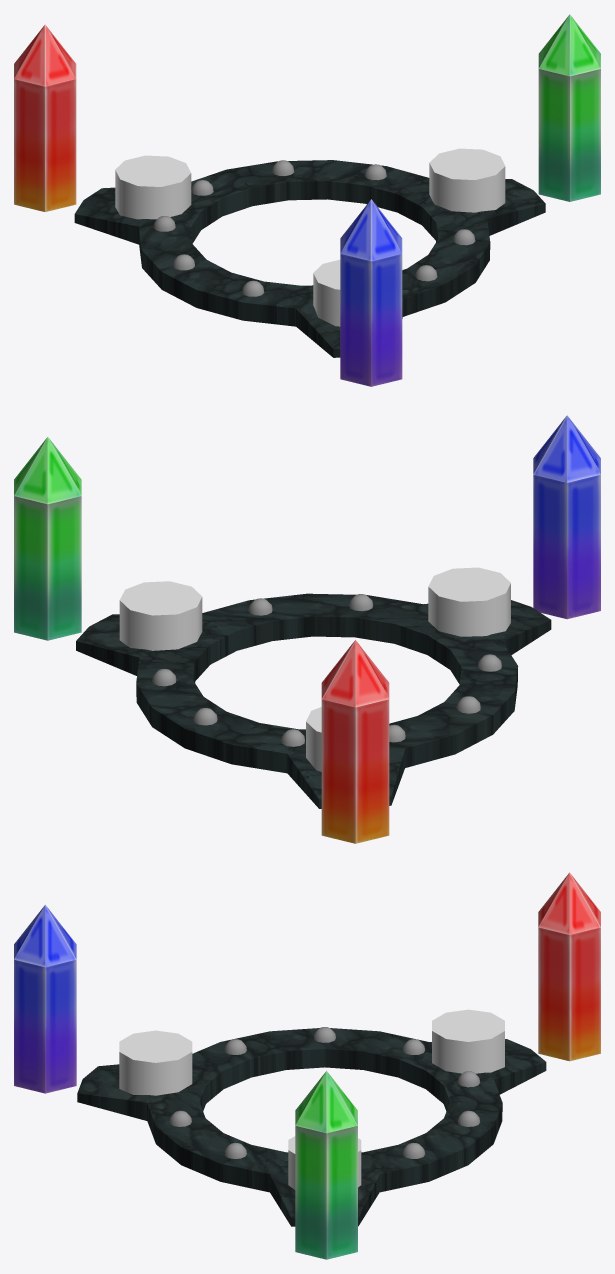
File: RGB portal.FBX
3 views of the same model, one above another, from view 1: azimuth 30°, elevation 25°; view 2: azimuth 150°, elevation 25°; view 3: azimuth 270°, elevation 25° (orthographic). The views are drawn at different scales.
Parts seen in each view (by area): view 1: Cylinder001, Cylinder004, Cylinder003, Object001, Cylinder002; view 2: Cylinder001, Cylinder004, Cylinder002, Object001, Cylinder003; view 3: Cylinder001, Cylinder002, Cylinder003, Object001, Cylinder004.
Part boxes in pixels (<box>): Cylinder001: <box>14,14,600,386</box>; Cylinder004: <box>429,148,505,212</box>; Cylinder003: <box>115,155,191,219</box>; Object001: <box>153,160,475,296</box>; Cylinder002: <box>313,259,340,326</box>; Cylinder001: <box>14,415,600,843</box>; Cylinder004: <box>119,581,202,650</box>; Cylinder002: <box>428,567,510,636</box>; Object001: <box>152,594,501,746</box>; Cylinder003: <box>306,707,321,771</box>; Cylinder001: <box>14,872,600,1259</box>; Cylinder002: <box>119,1030,192,1095</box>; Cylinder003: <box>432,1009,504,1073</box>; Object001: <box>169,1027,480,1158</box>; Cylinder004: <box>288,1136,361,1189</box>.
Size of the model in its own units: 173 by 62.02 by 187.
